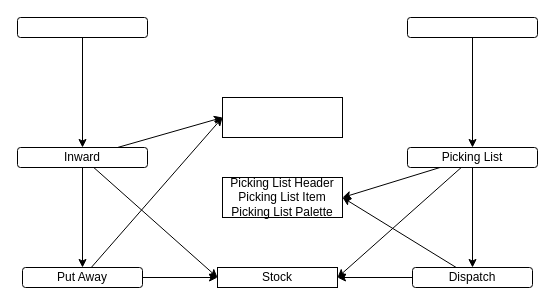
The diagram is 555 pixels wide and 305 high, and some of its shapes have lost their labels. The centre of each missing label's shape, as x and y in pixels:
"Inward Header Inward Detail" goes at pixel 282 117.
"Purchase Order" goes at pixel 82 27.
"Sales Order" goes at pixel 472 27.
